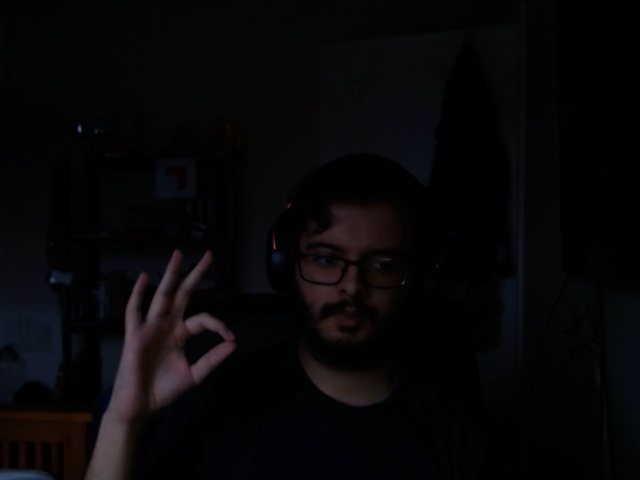Okay: (102, 236, 248, 415)
